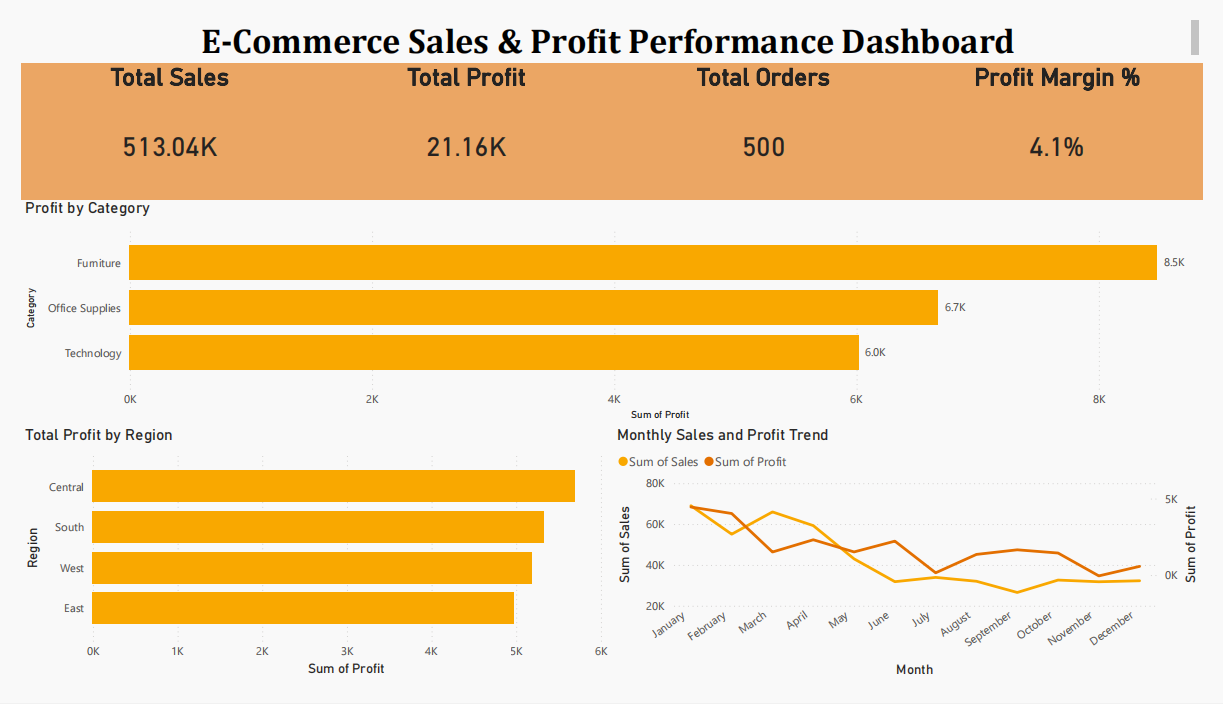

What the dashboard file says about the page in this screenshot:
{"tool":"powerbi","page":{"name":"Page 1","canvas":[1280,720],"ordinal":0},"visuals":[{"type":"lineChart","title":"Monthly Sales and Profit Trend","fields":{"Category":["ecommerce_analysis orders.Order_Date.Variation.Date Hierarchy.Month"],"Y":["Sum(ecommerce_analysis orders.Sales)"],"Y2":["Sum(ecommerce_analysis orders.Profit)"]},"box":[640.8,442.7,639.5,277.6],"z":0},{"type":"clusteredBarChart","title":"Profit by Category","fields":{"Category":["ecommerce_analysis orders.Category"],"Y":["Sum(ecommerce_analysis orders.Profit)"]},"box":[0,196.9,1280.3,245.8],"z":1000},{"type":"barChart","title":"Total Profit by Region","fields":{"Category":["ecommerce_analysis orders.Region"],"Y":["Sum(ecommerce_analysis orders.Profit)"]},"box":[0,442.7,639.5,277.6],"z":2000},{"type":"card","title":"Total Sales","fields":{"Values":["Sum(ecommerce_analysis orders.Sales)"]},"box":[0,50.1,321.6,149.2],"z":2001},{"type":"card","title":"Total Profit","fields":{"Values":["Sum(ecommerce_analysis orders.Profit)"]},"box":[321.6,50.1,321.6,149.2],"z":2002},{"type":"card","title":"Total Orders","fields":{"Values":["CountNonNull(ecommerce_analysis orders.Order_ID)"]},"box":[643.2,50.1,321.6,149.2],"z":2003},{"type":"card","title":"Profit Margin %","fields":{"Values":["ecommerce_analysis orders.Profit Margin %"]},"box":[964.8,50.1,315.5,149.2],"z":2004},{"type":"textbox","box":[0,0,1280.3,50.1],"z":2005}]}

Visuals, with their boxes in screenshot pixels (x1, y1, x2, y2), scaled from the page's 1280x720 canvas onto the 1223x705 screenshot:
"Monthly Sales and Profit Trend" lineChart: pyautogui.locateOnScreen(612, 433, 1222, 704)
"Profit by Category" clusteredBarChart: pyautogui.locateOnScreen(0, 193, 1222, 433)
"Total Profit by Region" barChart: pyautogui.locateOnScreen(0, 433, 611, 704)
"Total Sales" card: pyautogui.locateOnScreen(0, 49, 307, 195)
"Total Profit" card: pyautogui.locateOnScreen(307, 49, 615, 195)
"Total Orders" card: pyautogui.locateOnScreen(615, 49, 922, 195)
"Profit Margin %" card: pyautogui.locateOnScreen(922, 49, 1222, 195)
textbox: pyautogui.locateOnScreen(0, 0, 1222, 49)
